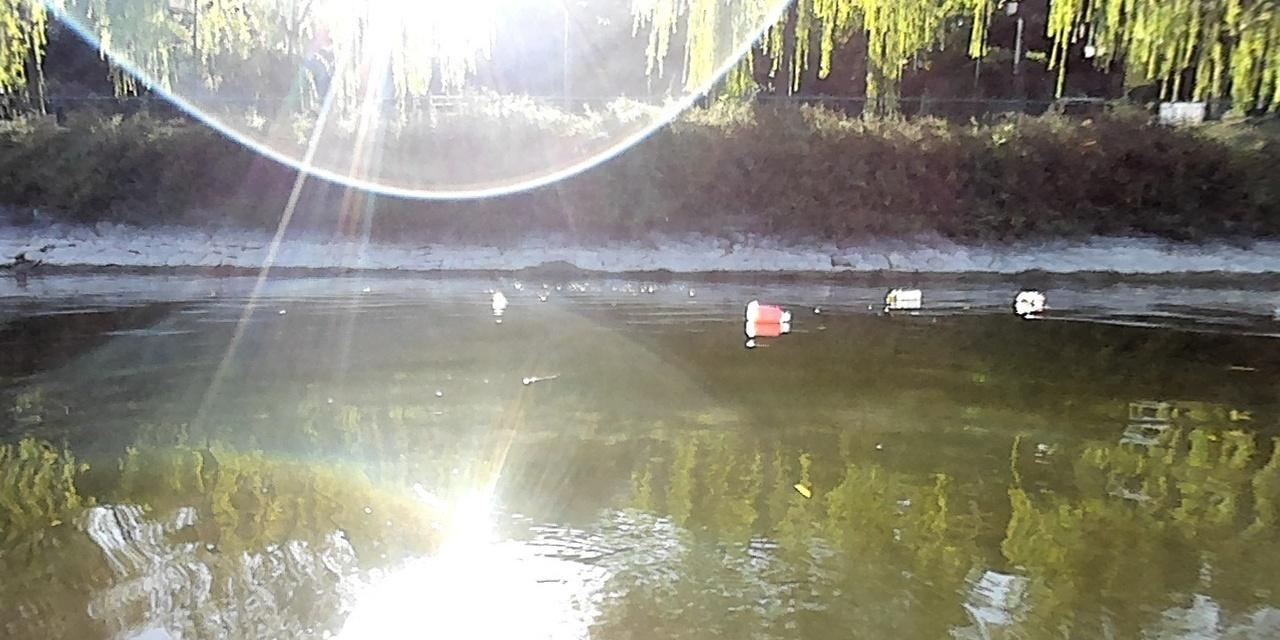bottle: (744, 299, 790, 325), (883, 286, 925, 303)
